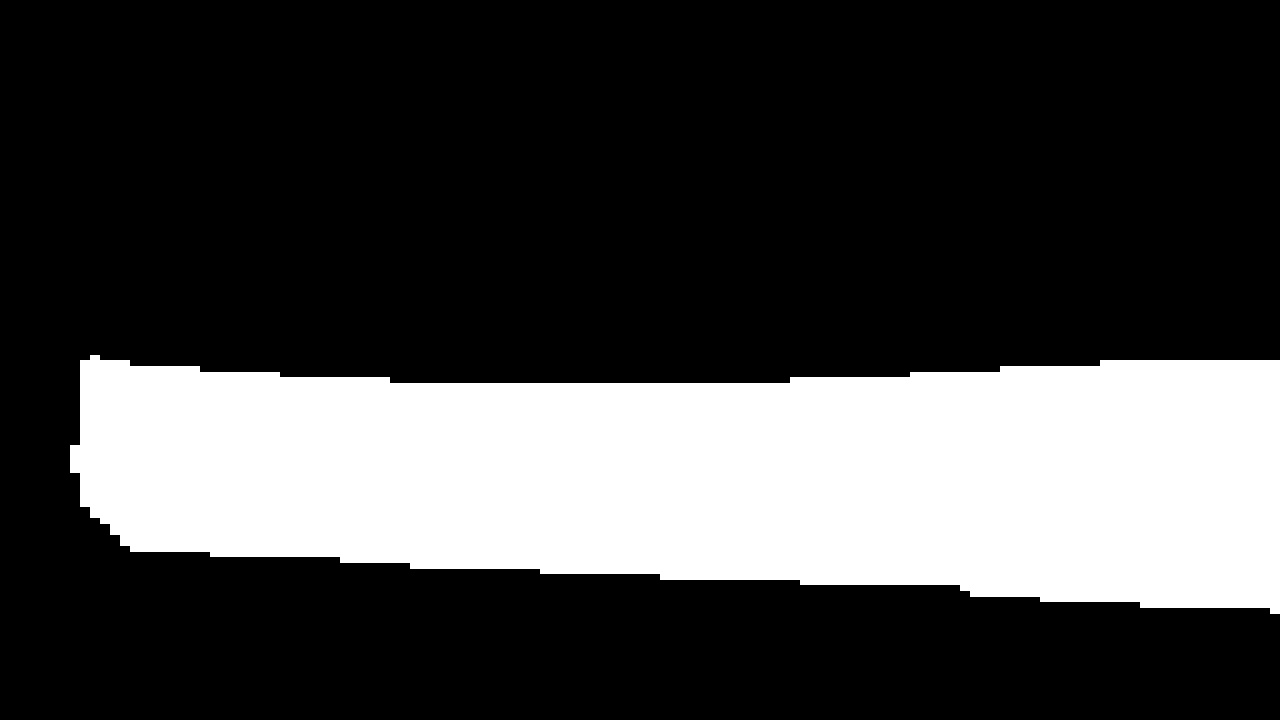Turbine: (53, 327, 1272, 599)
